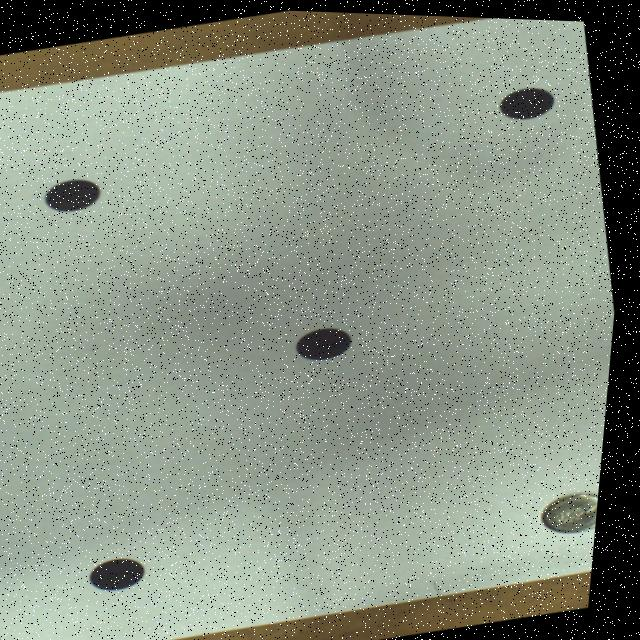space: (302, 325, 357, 358), (100, 557, 154, 590), (49, 179, 103, 212), (503, 84, 554, 115)
tail1bath: (551, 489, 607, 528)
